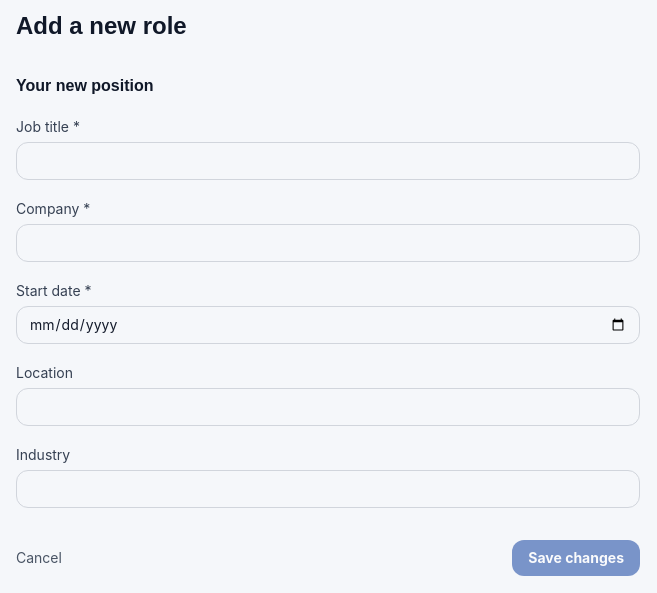
AddRoleView — manual mode › disables save until required fields are present
Expected: the button "Save changes" is disabled, [512,540,640,576]
Step 1. Type "Director" into the field labelled "Job title *" → point(328, 161), box [16,142,640,180]
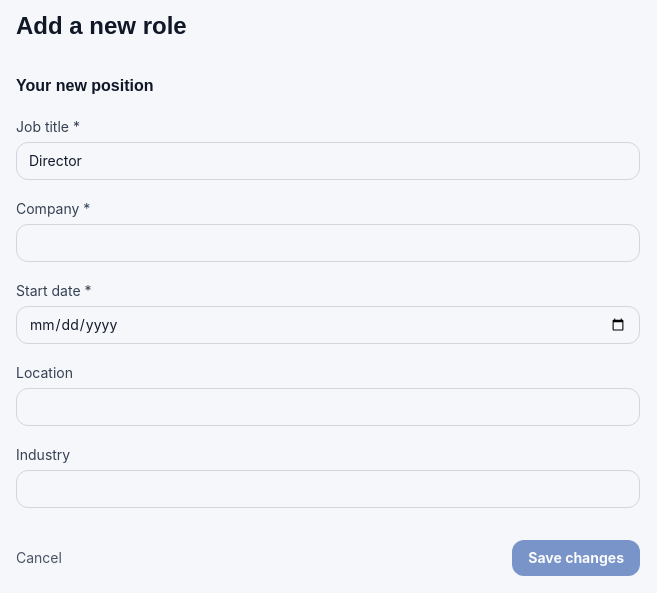
Step 2. Type "Roche" into the field labelled "Company *" → point(328, 243), box [16,224,640,262]
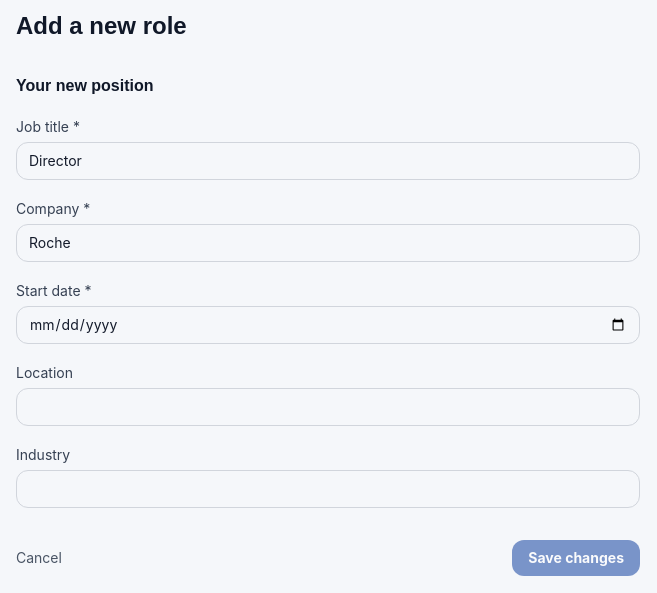
Step 3. Type "2026-06-01" into the date field labelled "Start date *" → point(328, 325), box [16,306,640,344]
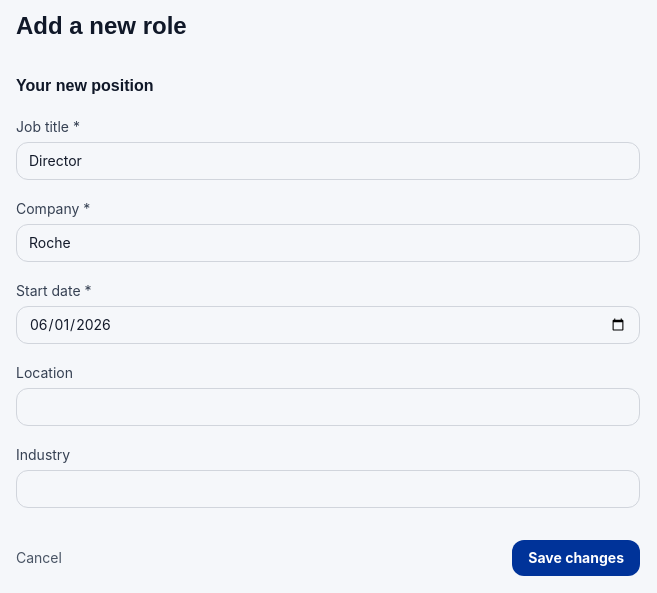
Expected: the button "Save changes" is enabled, [512,540,640,576]
